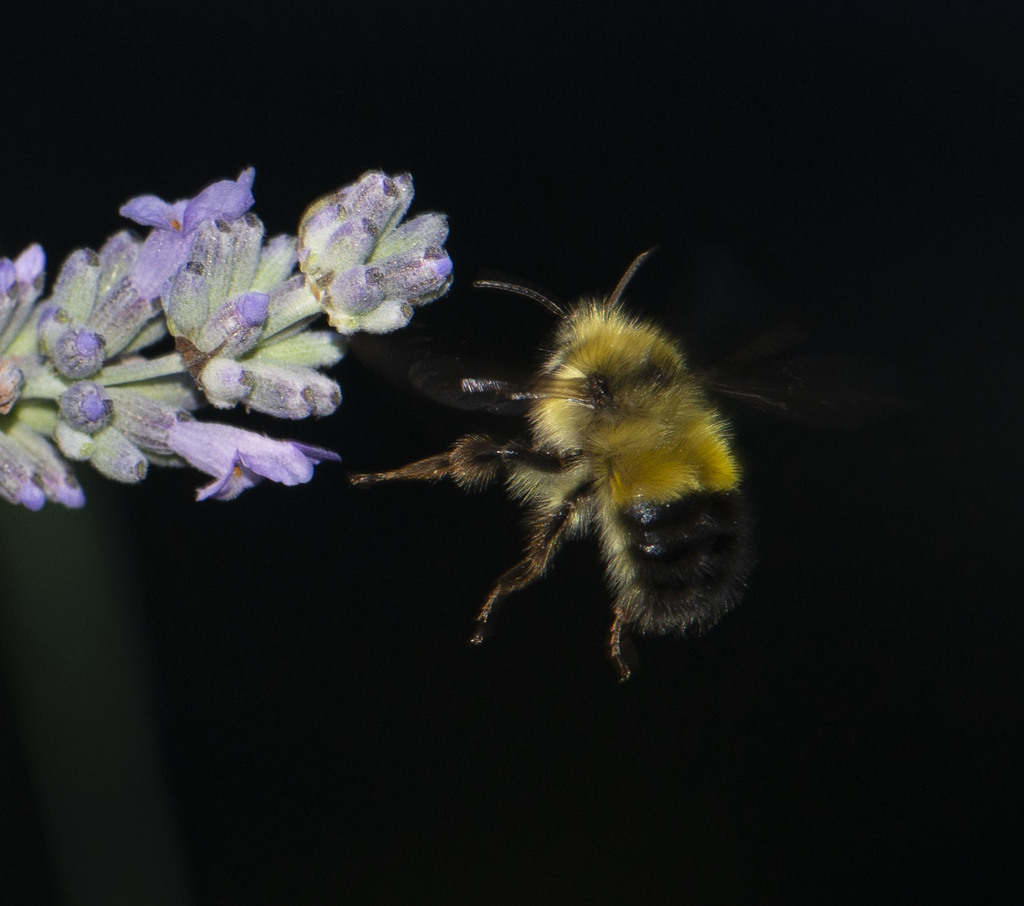bumblebee: (347, 252, 787, 684)
